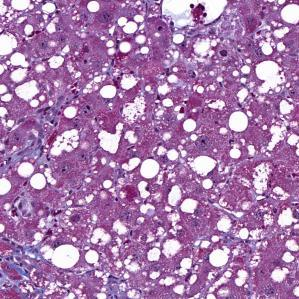fibrosis: (0, 242, 52, 294)
